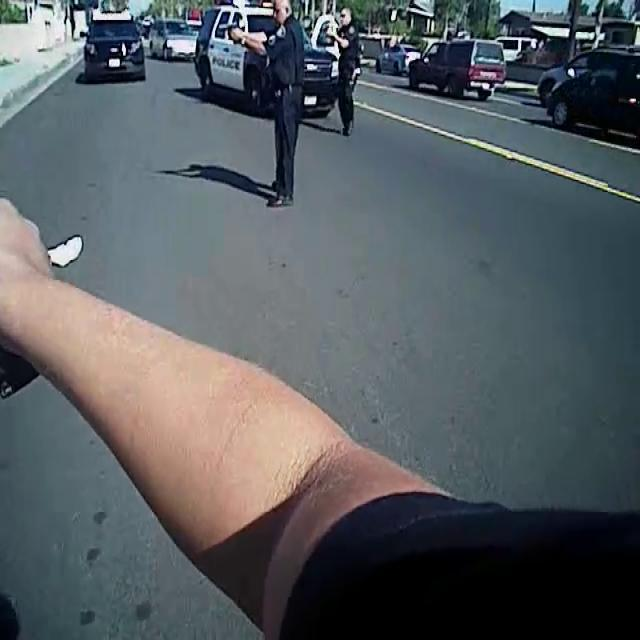gun: (0, 183, 62, 438), (212, 17, 246, 51), (323, 22, 335, 46)
